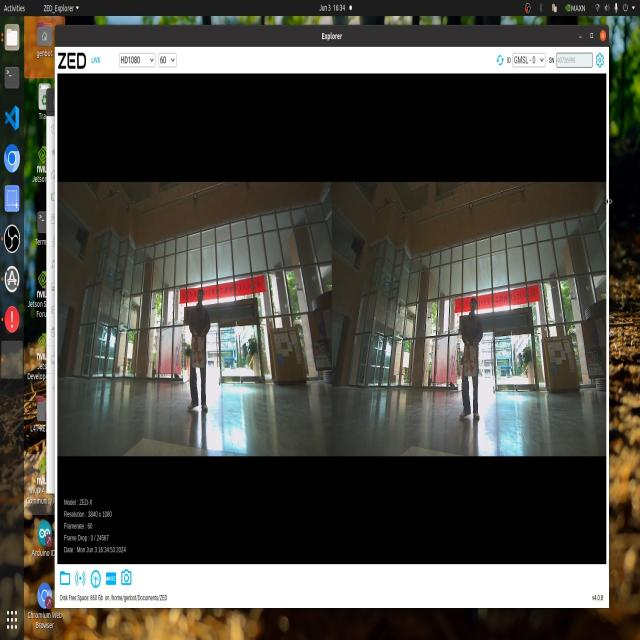red: (461, 336, 476, 374), (192, 335, 206, 370)
